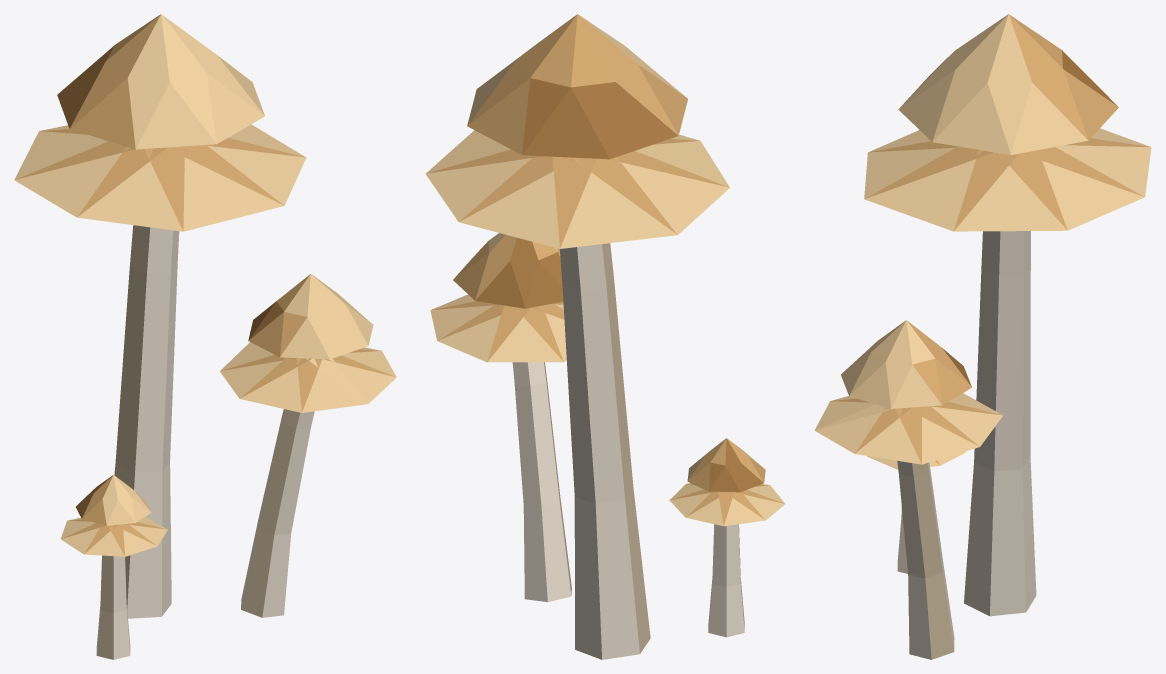
Rendered from mushroom_tanTall.glb.
3 views of the same model, side by side, from view 1: azimuth 30°, elevation 25°; view 2: azimuth 150°, elevation 25°; view 3: azimuth 270°, elevation 25° (orthographic). The views are drawn at different scales.
Visible parts, largest first — view 1: mushroom_tanTall.002; view 2: mushroom_tanTall.002; view 3: mushroom_tanTall.002.
Boxes of the visible parts, bbox=[...] form: mushroom_tanTall.002: bbox=[14, 14, 396, 659]; mushroom_tanTall.002: bbox=[425, 14, 784, 659]; mushroom_tanTall.002: bbox=[814, 14, 1151, 659].
Size of the model in its own units: 0.2268 by 0.4 by 0.2027.
